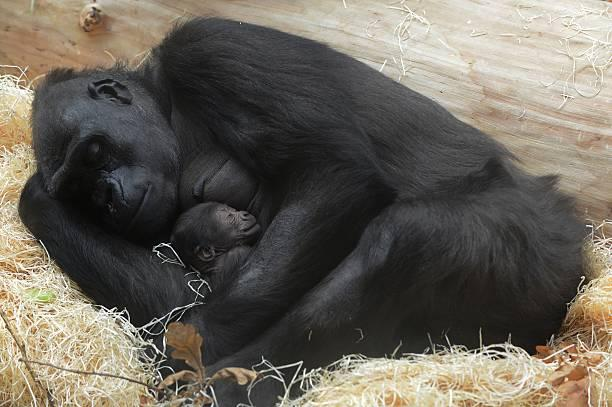gorille_Autres: (7, 9, 579, 407)
